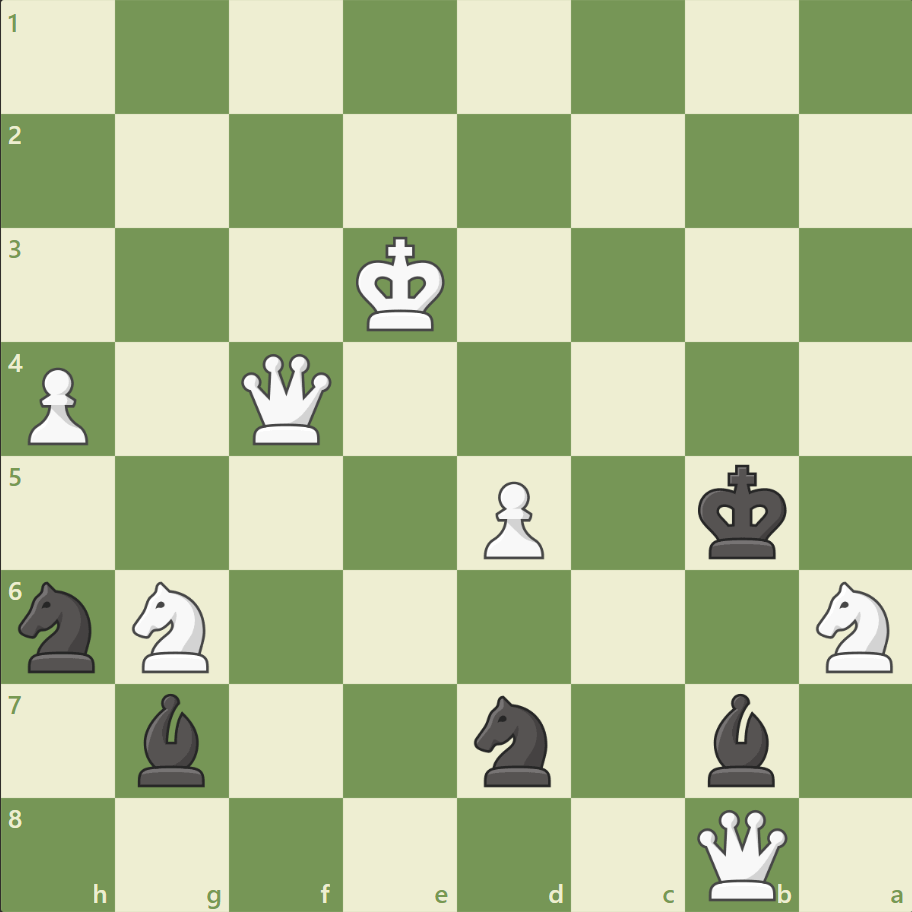K: (351, 231, 451, 339)
N: (124, 575, 222, 677), (806, 575, 903, 677)
P: (474, 473, 549, 564), (20, 359, 95, 450)
Q: (237, 349, 336, 449), (691, 804, 790, 903)
b: (698, 687, 782, 790), (131, 687, 215, 790)
k: (692, 458, 792, 566)
n: (465, 688, 562, 791), (11, 575, 108, 677)
